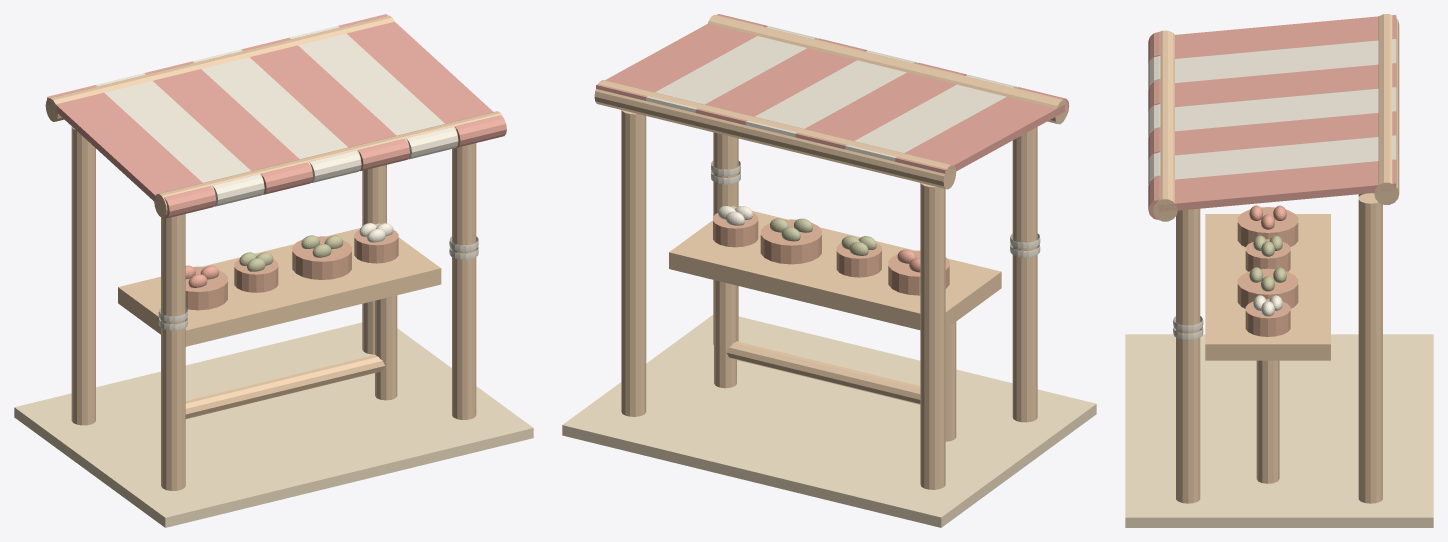
File: market_stall.glb
The picture shows the model from 3 angles, left to right: view 1: azimuth 30°, elevation 25°; view 2: azimuth 150°, elevation 25°; view 3: azimuth 270°, elevation 25°; orthographic projection. The views are drawn at different scales.
Visible parts, largest first — view 1: Base, Counter, Leg_B_L, Leg_F_L, Awning_0, Leg_F_R, Awning_6, Awning_2, Awning_1, Awning_4, Awning_5, Awning_3 (+16 smaller); view 2: Base, Counter, Leg_B_L, Leg_B_R, Roll_B, Leg_F_L, Awning_0, Awning_2, Awning_1, Awning_3, Awning_4, Awning_5 (+10 smaller); view 3: Base, Counter, Leg_B_R, Leg_F_R, Awning_6, Awning_5, Awning_2, Awning_3, Awning_4, Awning_0, Awning_1, Roll_B (+7 smaller).
Part boxes in pixels (left/top/right/bottom): Base: left=14, top=322, right=533, bottom=527; Counter: left=118, top=223, right=441, bottom=346; Leg_B_L: left=71, top=126, right=95, bottom=425; Leg_F_L: left=161, top=214, right=185, bottom=490; Awning_0: left=47, top=85, right=202, bottom=206; Leg_F_R: left=452, top=143, right=476, bottom=419; Awning_6: left=338, top=14, right=493, bottom=123; Awning_2: left=144, top=61, right=299, bottom=170; Awning_1: left=96, top=73, right=250, bottom=182; Awning_4: left=241, top=37, right=396, bottom=147; Awning_5: left=290, top=26, right=444, bottom=135; Awning_3: left=193, top=49, right=347, bottom=159; Base: left=562, top=315, right=1096, bottom=527; Counter: left=669, top=206, right=1001, bottom=329; Leg_B_L: left=920, top=183, right=945, bottom=489; Leg_B_R: left=621, top=110, right=646, bottom=416; Roll_B: left=594, top=80, right=956, bottom=189; Leg_F_L: left=1012, top=127, right=1037, bottom=422; Awning_0: left=895, top=97, right=1065, bottom=173; Awning_2: left=795, top=72, right=956, bottom=149; Awning_1: left=845, top=84, right=1006, bottom=161; Awning_3: left=745, top=60, right=906, bottom=137; Awning_4: left=695, top=48, right=856, bottom=125; Awning_5: left=646, top=36, right=806, bottom=112; Base: left=1125, top=334, right=1433, bottom=527; Counter: left=1205, top=214, right=1330, bottom=360; Leg_B_R: left=1358, top=193, right=1382, bottom=503; Leg_F_R: left=1176, top=208, right=1200, bottom=503; Awning_6: left=1158, top=159, right=1396, bottom=212; Awning_5: left=1175, top=135, right=1396, bottom=179; Awning_2: left=1175, top=63, right=1396, bottom=107; Awning_3: left=1175, top=87, right=1396, bottom=131; Awning_4: left=1175, top=111, right=1396, bottom=155; Awning_0: left=1175, top=15, right=1396, bottom=58; Awning_1: left=1175, top=39, right=1396, bottom=82; Roll_B: left=1374, top=14, right=1399, bottom=204.
Bounding box in the file's own units: 1.9 × 1.63 × 1.35.
